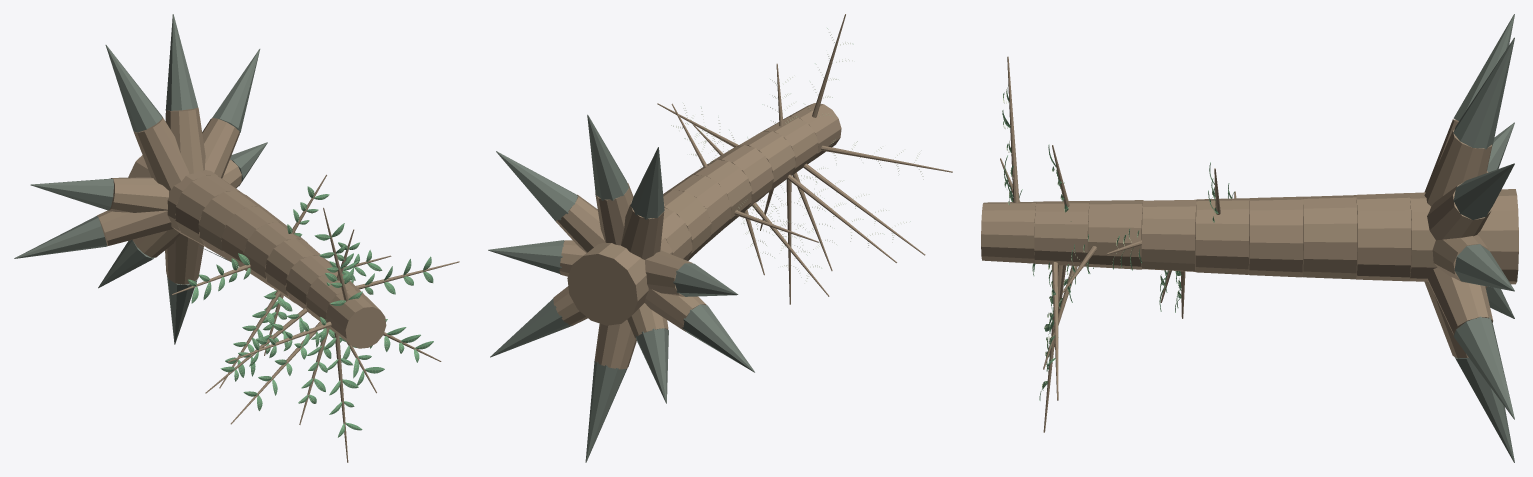
The model's file is Aquarion_Hero_Mangrove.glb.
3 renders of one model, left to right at view 1: azimuth 30°, elevation 25°; view 2: azimuth 150°, elevation 25°; view 3: azimuth 270°, elevation 25°, orthographic. The views are drawn at different scales.
Parts seen in each view (by area): view 1: Aquarion_Hero_Mangrove_trunk9, Aquarion_Hero_Mangrove_buttress3a, Aquarion_Hero_Mangrove_trunk2, Aquarion_Hero_Mangrove_buttress5a, Aquarion_Hero_Mangrove_buttress4a, Aquarion_Hero_Mangrove_trunk3, Aquarion_Hero_Mangrove_buttress2a, Aquarion_Hero_Mangrove_buttress2b, Aquarion_Hero_Mangrove_buttress3b, Aquarion_Hero_Mangrove_trunk4, Aquarion_Hero_Mangrove_buttress5b, Aquarion_Hero_Mangrove_trunk5 (+12 smaller); view 2: Aquarion_Hero_Mangrove_trunk0, Aquarion_Hero_Mangrove_buttress7b, Aquarion_Hero_Mangrove_buttress1b, Aquarion_Hero_Mangrove_buttress2b, Aquarion_Hero_Mangrove_buttress5b, Aquarion_Hero_Mangrove_trunk4, Aquarion_Hero_Mangrove_trunk3, Aquarion_Hero_Mangrove_trunk5, Aquarion_Hero_Mangrove_buttress7a, Aquarion_Hero_Mangrove_trunk6, Aquarion_Hero_Mangrove_buttress3a, Aquarion_Hero_Mangrove_buttress1a (+18 smaller); view 3: Aquarion_Hero_Mangrove_trunk2, Aquarion_Hero_Mangrove_trunk3, Aquarion_Hero_Mangrove_trunk4, Aquarion_Hero_Mangrove_trunk5, Aquarion_Hero_Mangrove_trunk6, Aquarion_Hero_Mangrove_trunk7, Aquarion_Hero_Mangrove_trunk8, Aquarion_Hero_Mangrove_trunk9, Aquarion_Hero_Mangrove_buttress2b, Aquarion_Hero_Mangrove_trunk0, Aquarion_Hero_Mangrove_buttress8b, Aquarion_Hero_Mangrove_buttress8a (+12 smaller).
Boxes of the visible parts, x1,y1,x2,y2 form: Aquarion_Hero_Mangrove_trunk9: (326, 289, 386, 348); Aquarion_Hero_Mangrove_buttress3a: (134, 116, 189, 190); Aquarion_Hero_Mangrove_trunk2: (175, 175, 242, 246); Aquarion_Hero_Mangrove_buttress5a: (97, 210, 173, 245); Aquarion_Hero_Mangrove_buttress4a: (109, 177, 168, 212); Aquarion_Hero_Mangrove_trunk3: (198, 190, 267, 260); Aquarion_Hero_Mangrove_buttress2a: (165, 107, 205, 174); Aquarion_Hero_Mangrove_buttress2b: (165, 14, 198, 110); Aquarion_Hero_Mangrove_buttress3b: (105, 45, 162, 132); Aquarion_Hero_Mangrove_trunk4: (221, 206, 286, 270); Aquarion_Hero_Mangrove_buttress5b: (14, 216, 107, 258); Aquarion_Hero_Mangrove_trunk5: (243, 222, 307, 287); Aquarion_Hero_Mangrove_trunk0: (567, 242, 648, 325); Aquarion_Hero_Mangrove_buttress7b: (585, 359, 627, 462); Aquarion_Hero_Mangrove_buttress1b: (496, 151, 577, 221); Aquarion_Hero_Mangrove_buttress2b: (587, 114, 628, 200); Aquarion_Hero_Mangrove_buttress5b: (682, 304, 754, 372); Aquarion_Hero_Mangrove_trunk4: (663, 175, 731, 245); Aquarion_Hero_Mangrove_trunk3: (663, 190, 711, 260); Aquarion_Hero_Mangrove_trunk5: (684, 159, 752, 227); Aquarion_Hero_Mangrove_buttress7a: (595, 319, 636, 369); Aquarion_Hero_Mangrove_trunk6: (710, 145, 773, 209); Aquarion_Hero_Mangrove_buttress3a: (621, 199, 664, 259); Aquarion_Hero_Mangrove_buttress1a: (556, 194, 604, 252); Aquarion_Hero_Mangrove_trunk2: (1356, 193, 1411, 281); Aquarion_Hero_Mangrove_trunk3: (1302, 195, 1357, 279); Aquarion_Hero_Mangrove_trunk4: (1249, 196, 1303, 277); Aquarion_Hero_Mangrove_trunk5: (1195, 198, 1249, 274); Aquarion_Hero_Mangrove_trunk6: (1141, 199, 1196, 271); Aquarion_Hero_Mangrove_trunk7: (1088, 200, 1143, 269); Aquarion_Hero_Mangrove_trunk8: (1034, 201, 1089, 266); Aquarion_Hero_Mangrove_trunk9: (981, 201, 1036, 263); Aquarion_Hero_Mangrove_buttress2b: (1453, 37, 1514, 149); Aquarion_Hero_Mangrove_trunk0: (1477, 189, 1518, 284); Aquarion_Hero_Mangrove_buttress8b: (1453, 316, 1514, 419); Aquarion_Hero_Mangrove_buttress8a: (1427, 267, 1493, 334).
Size of the model in its own units: 6.57 by 7.73 by 8.88.
